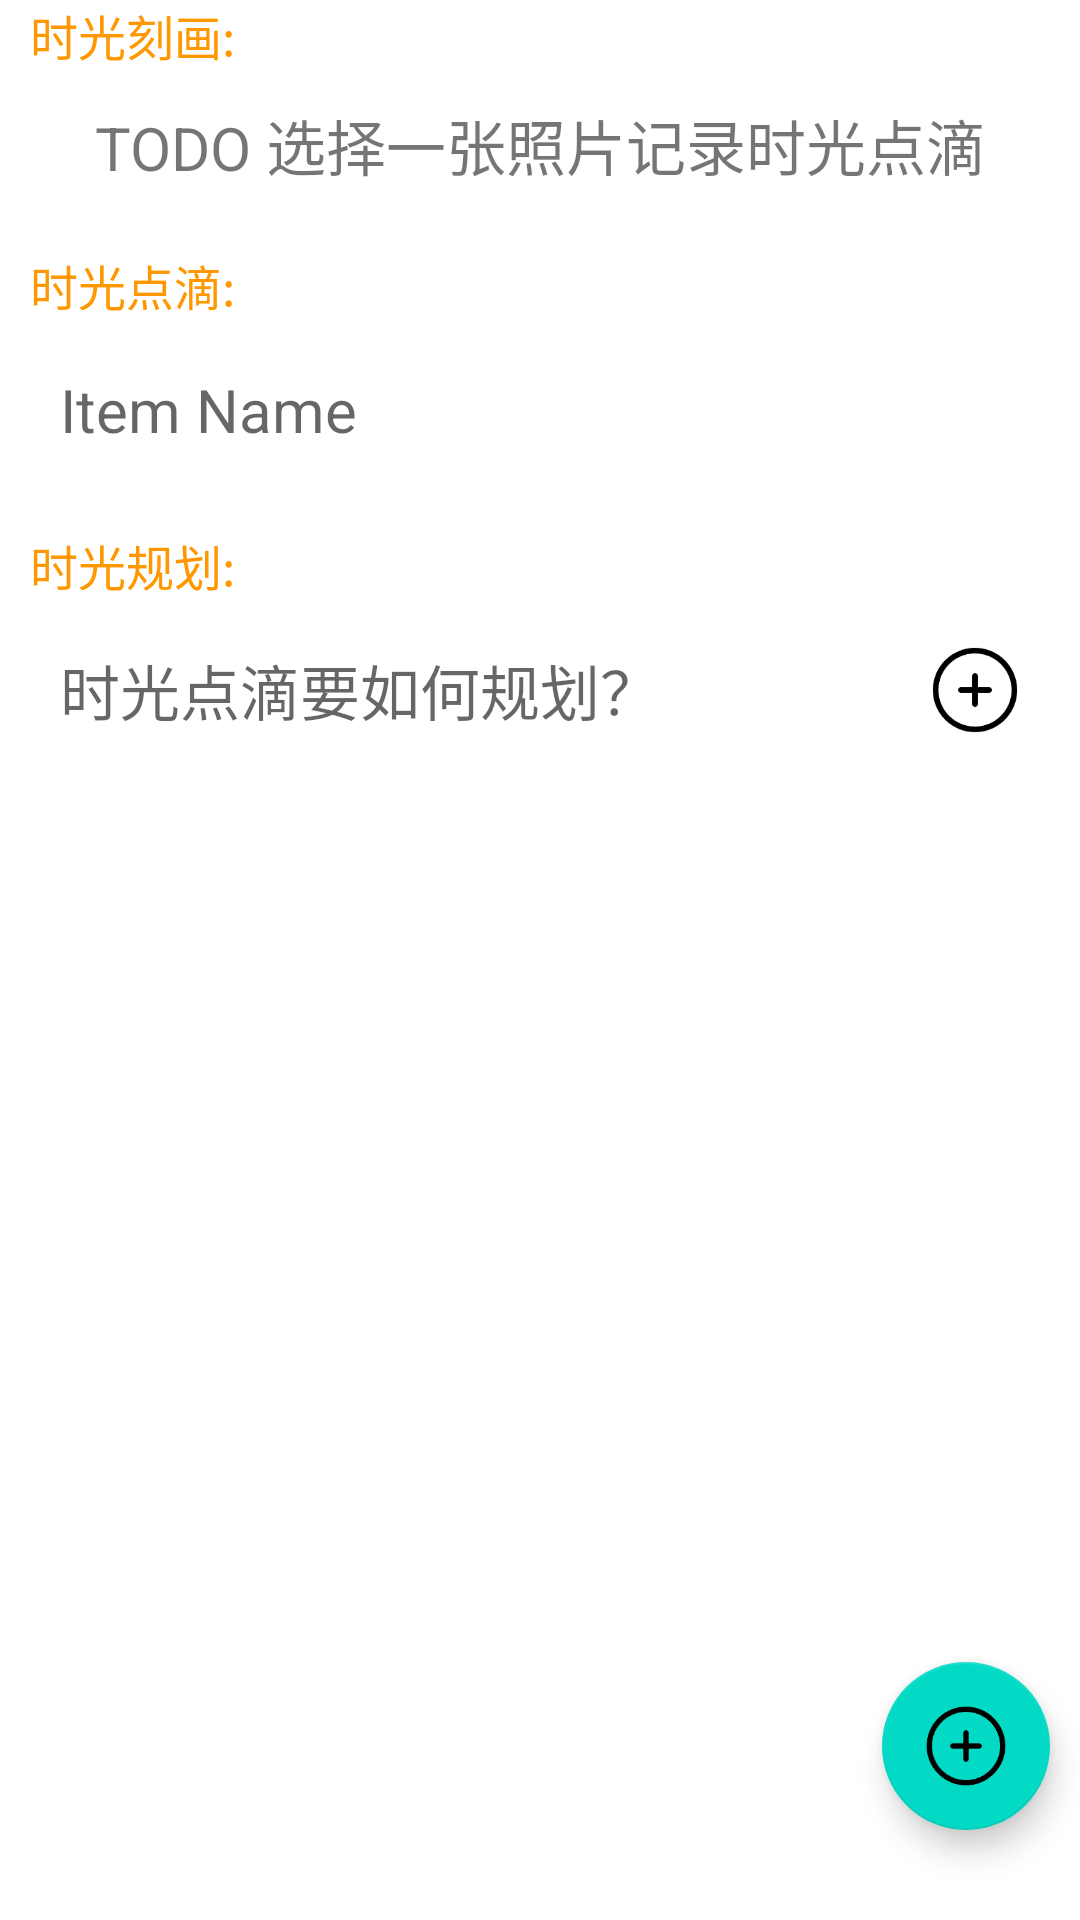

Screen size 1080w x 1920h. Icon name, then its center in pixels as [x,y]:
insert: [975,690], [966,1746]
